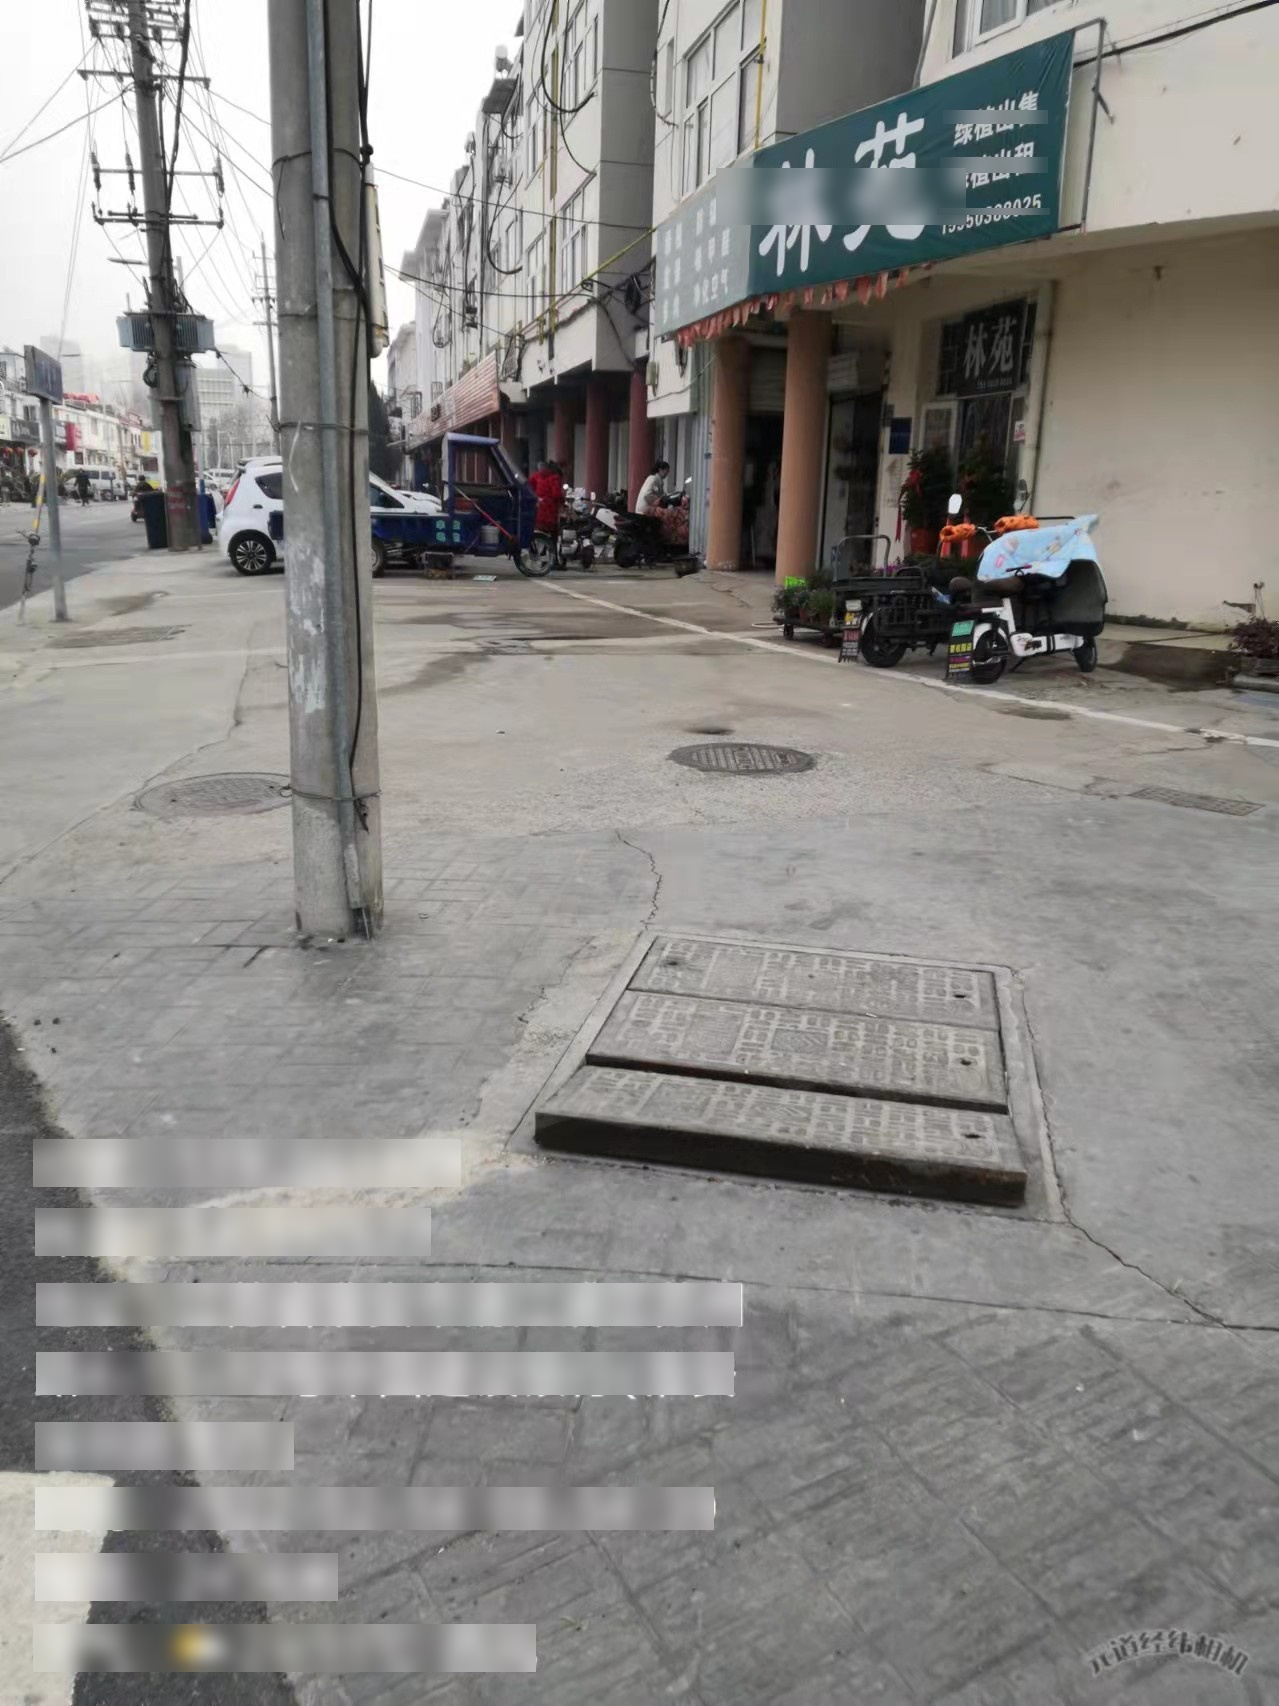good: (662, 739, 826, 784)
uncovered: (502, 924, 1045, 1214)
